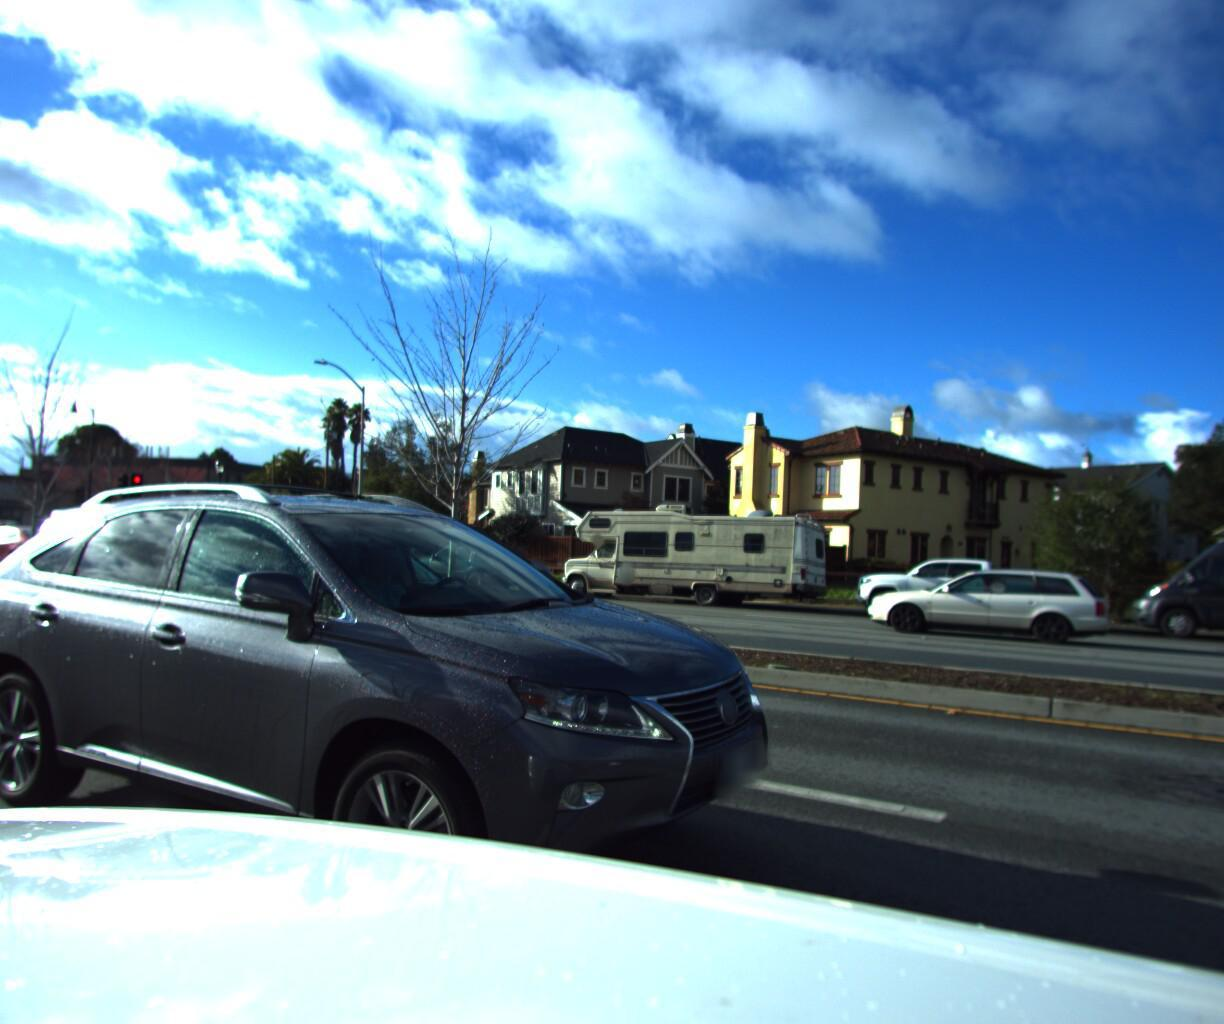car: (0, 467, 852, 1024), (856, 556, 1119, 647), (842, 546, 1072, 633), (1121, 520, 1224, 654), (393, 532, 531, 590), (0, 518, 91, 569), (0, 509, 51, 560)
other_vehicle: (549, 492, 836, 608)
